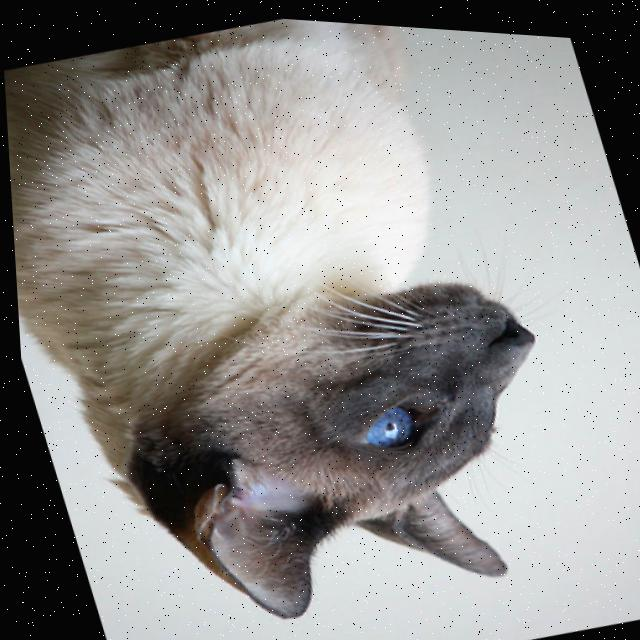Siamese: (0, 0, 614, 640)
